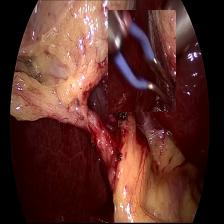Bipolar: (108, 10, 176, 112)
